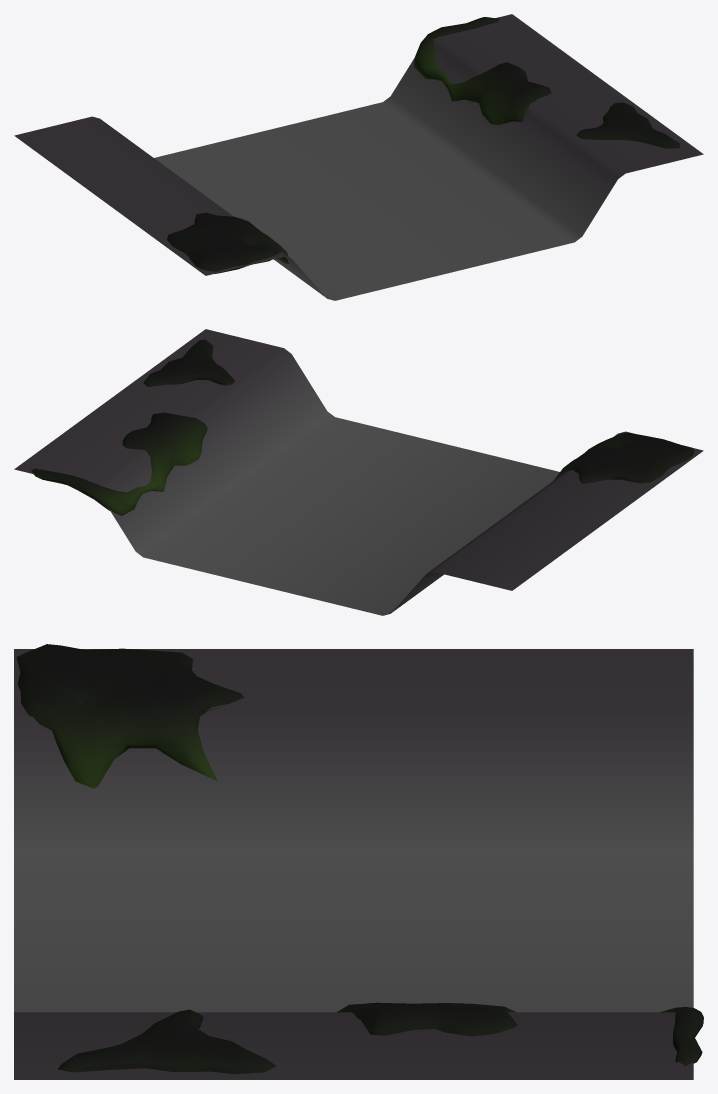
The model's file is SM_Sewer_Ground_06.fbx.
3 renders of one model, top to bottom at view 1: azimuth 30°, elevation 25°; view 2: azimuth 150°, elevation 25°; view 3: azimuth 270°, elevation 25°, orthographic. The views are drawn at different scales.
Visible parts, largest first — view 1: transform10; view 2: transform10; view 3: transform10.
Boxes of the visible parts, x1,y1,x2,y2 form: transform10: (14, 14, 703, 300); transform10: (14, 329, 703, 615); transform10: (14, 644, 703, 1079).
Size of the model in its own units: 600 by 73.95 by 406.
